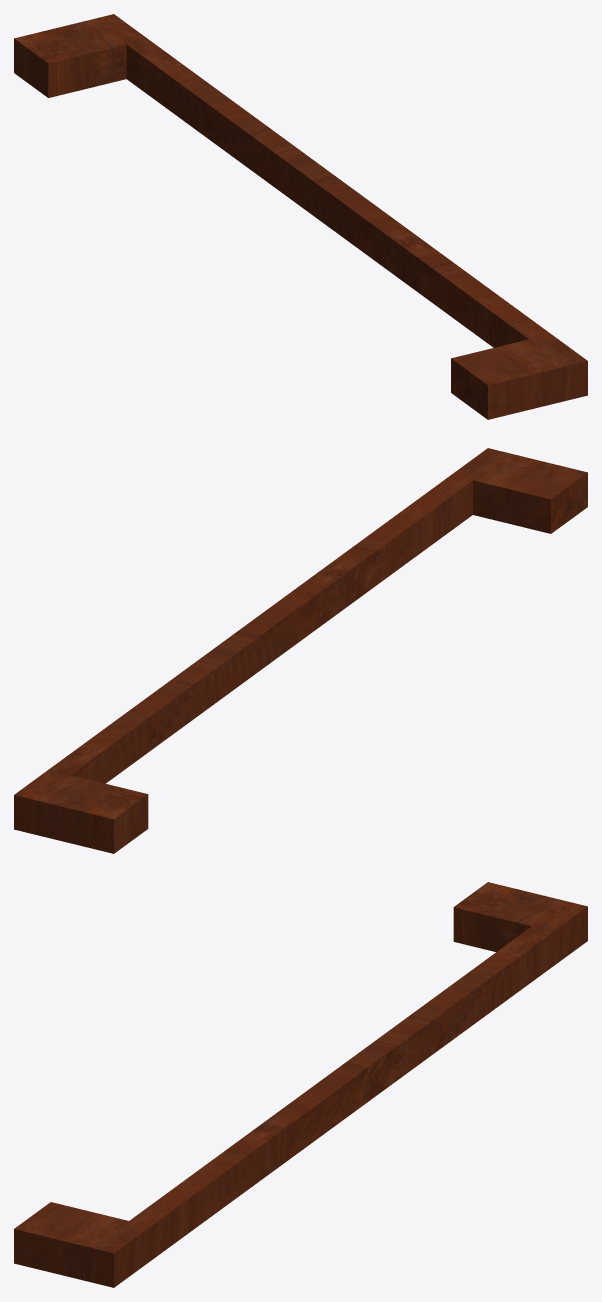
Rendered from metal rod.fbx.
3 views of the same model, one above another, from view 1: azimuth 30°, elevation 25°; view 2: azimuth 150°, elevation 25°; view 3: azimuth 330°, elevation 25° (orthographic).
Parts seen in each view (by area): view 1: falling_metel2; view 2: falling_metel2; view 3: falling_metel2.
Part boxes in pixels (bbox=[...]): falling_metel2: bbox=[14, 14, 587, 419]; falling_metel2: bbox=[14, 448, 587, 853]; falling_metel2: bbox=[14, 882, 587, 1287].
Size of the model in its own units: 0.4319 by 0.1426 by 3.55.
